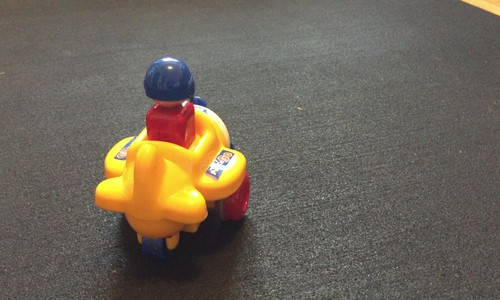toy: (101, 55, 254, 268)
